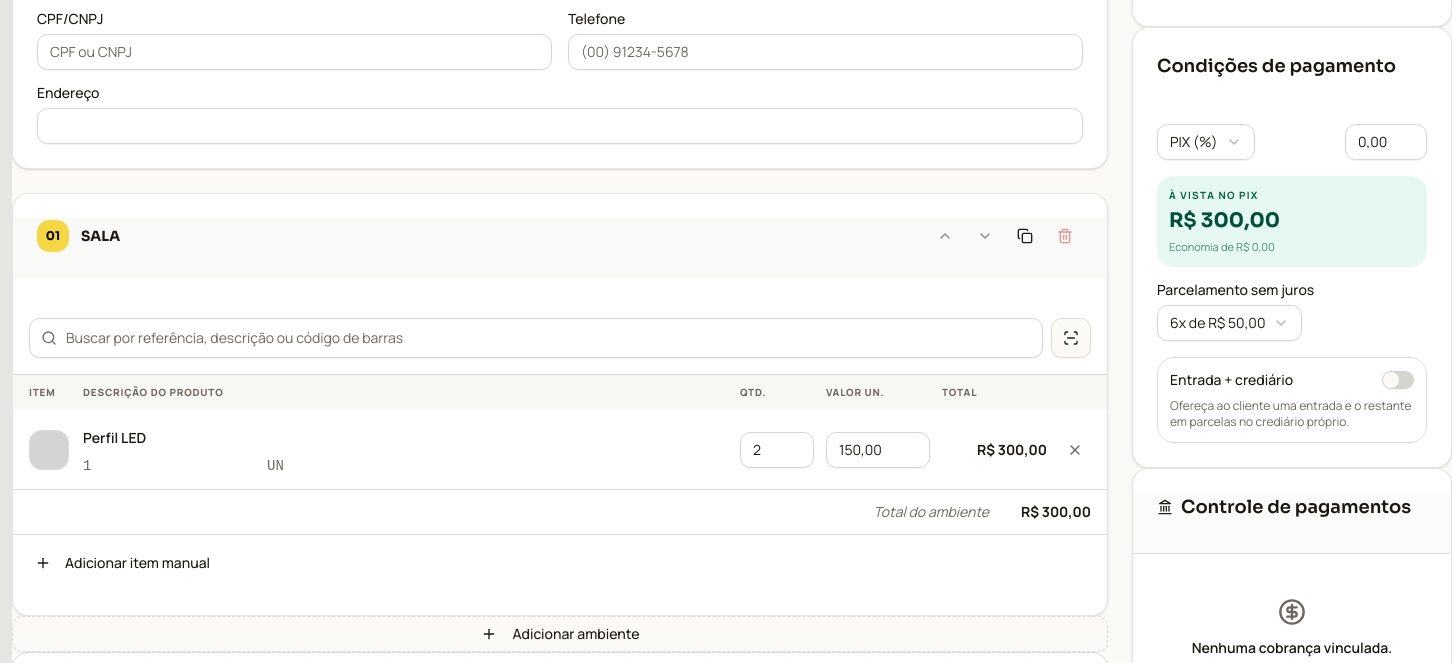
Test: QuoteEditorPage › a busca lista cada produto e adiciona o escolhido com a sua referência
(page scrolled)
Type "spot" into the field named "Buscar produto no ambiente 1".
click(536, 338); type("spot")  # box left=29, top=318, right=1043, bottom=358
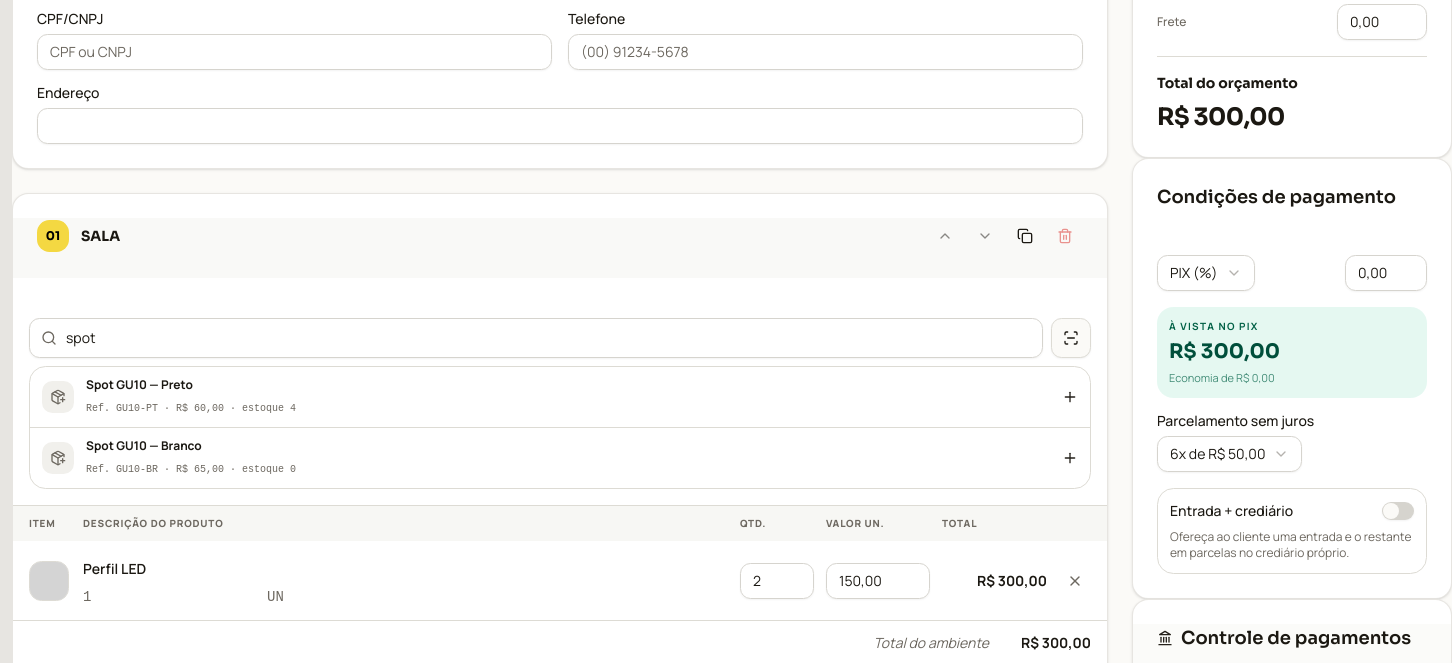
Click the button "Spot GU10 — Branco Ref. GU10-BR · R$ 65,00 · estoque 0".
click(58, 458)  # box left=30, top=428, right=1090, bottom=488
(page scrolled)
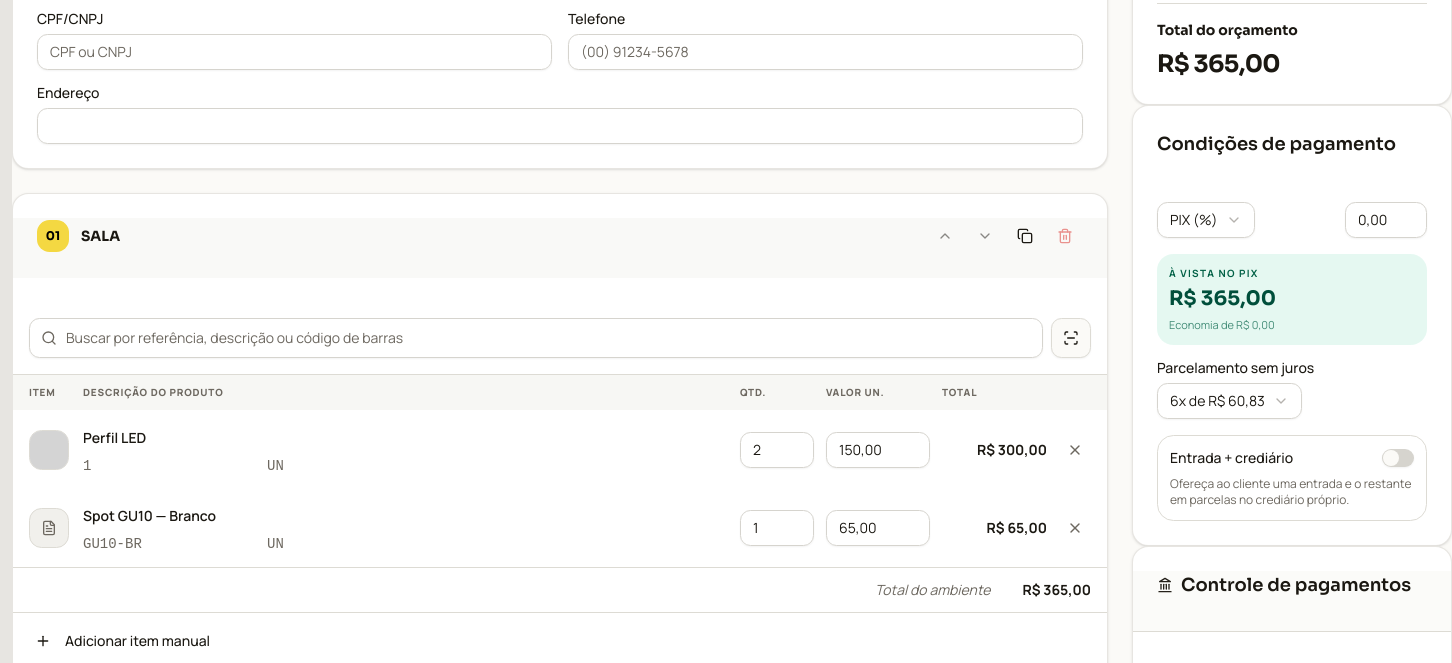
Now the field showing "Spot GU10 — Branco" is shown, box left=83, top=500, right=728, bottom=532
Now the field showing "GU10-BR" is shown, box left=83, top=532, right=259, bottom=556
